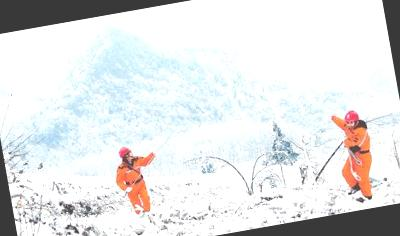person: (320, 107, 384, 204), (104, 138, 164, 224)
